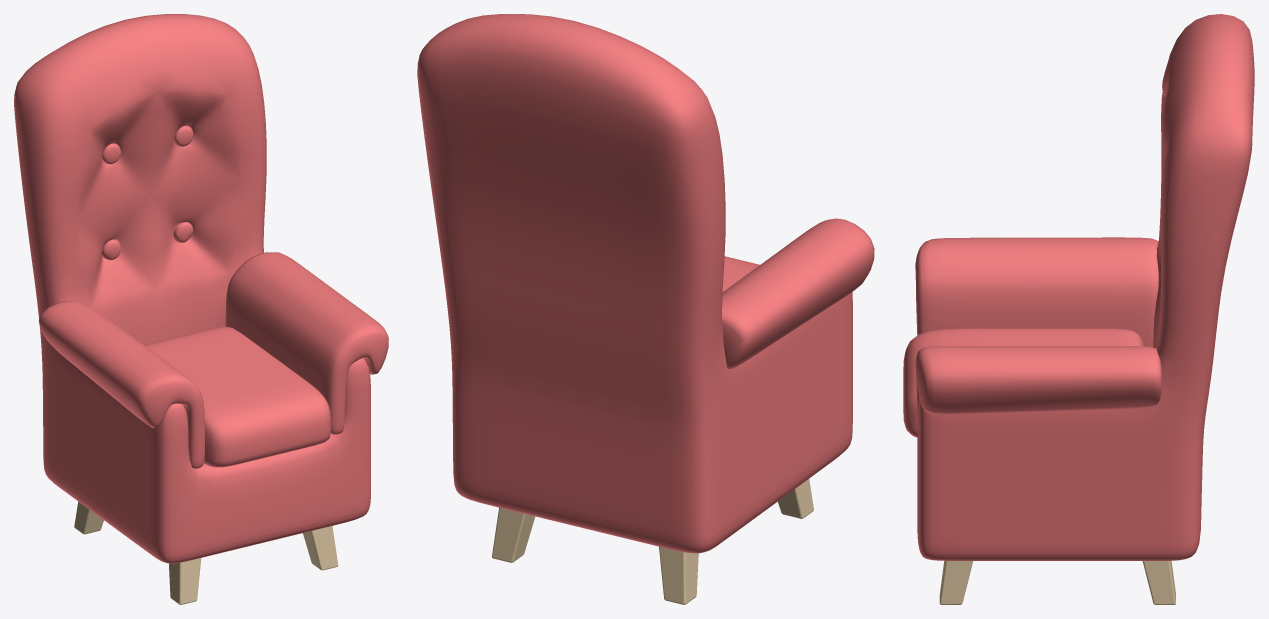
The model's file is chair.glb.
3 views of the same model, side by side, from view 1: azimuth 30°, elevation 25°; view 2: azimuth 150°, elevation 25°; view 3: azimuth 270°, elevation 25° (orthographic). The views are drawn at different scales.
Visible parts, largest first — view 1: NewChair, Plane.002, Plane.004, Plane.003, Plane.005; view 2: NewChair, Plane.003, Plane.005, Plane.002; view 3: NewChair, Plane.003, Plane.004, Plane.002, Plane.005.
Boxes of the visible parts, x1,y1,x2,y2 form: NewChair: [14, 14, 370, 563]; Plane.002: [144, 326, 331, 467]; Plane.004: [225, 252, 388, 434]; Plane.003: [38, 300, 204, 468]; Plane.005: [74, 501, 338, 604]; NewChair: [417, 14, 852, 553]; Plane.003: [721, 218, 874, 369]; Plane.005: [492, 479, 813, 604]; Plane.002: [722, 256, 759, 291]; NewChair: [917, 14, 1254, 560]; Plane.003: [915, 237, 1158, 347]; Plane.004: [915, 346, 1162, 433]; Plane.002: [903, 328, 1143, 437]; Plane.005: [939, 561, 1175, 604].
Size of the model in its own units: 2.29 by 4.08 by 2.48.
